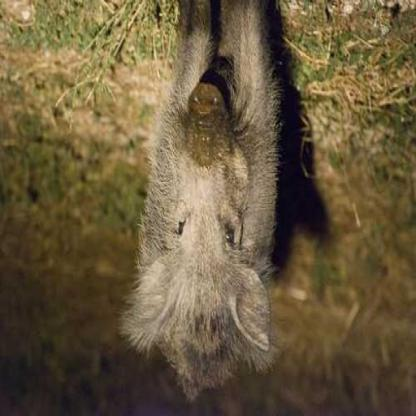boar: (123, 1, 311, 405)
